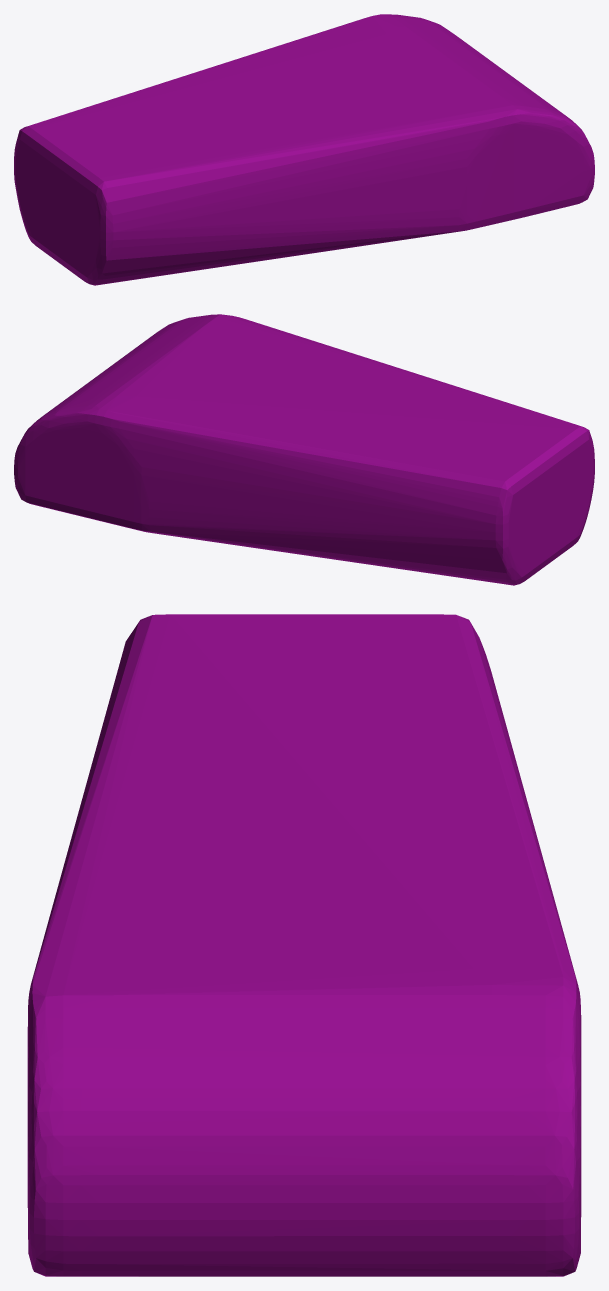
File: left-tarsus-0_part_14.obj
The picture shows the model from 3 angles, top to bottom: view 1: azimuth 30°, elevation 25°; view 2: azimuth 150°, elevation 25°; view 3: azimuth 270°, elevation 25°; orthographic projection. The views are drawn at different scales.
Bounding box in the file's own units: 0.1144 × 0.026 × 0.0581.
